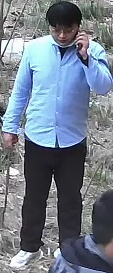phone: (37, 2, 112, 96)
